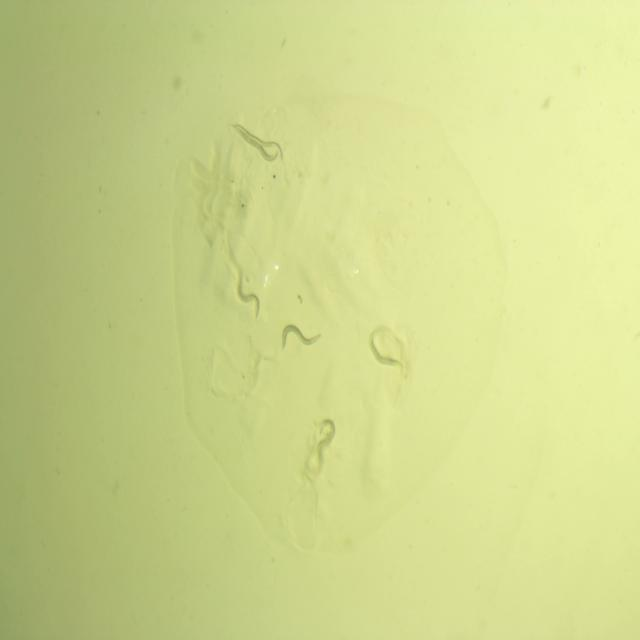worm: (233, 121, 286, 168), (228, 119, 280, 164), (307, 410, 343, 467), (276, 318, 324, 359), (366, 324, 404, 374), (233, 267, 266, 324)
